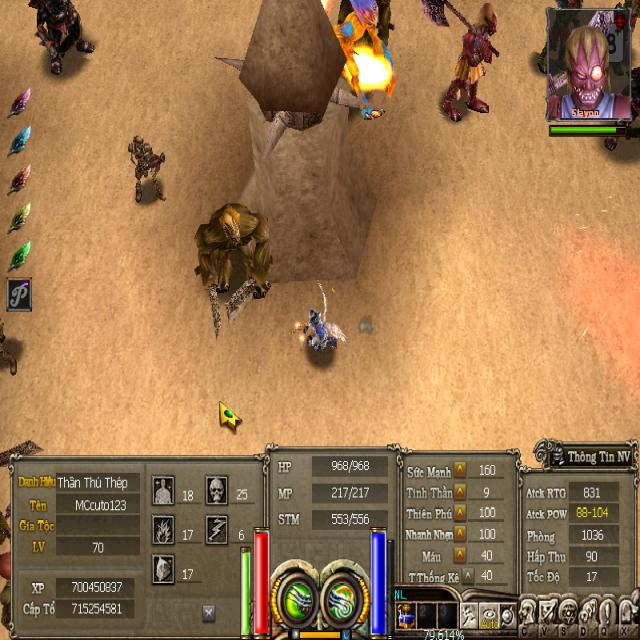monster: (192, 194, 273, 314), (436, 8, 501, 123), (30, 6, 96, 68), (123, 134, 164, 204)
